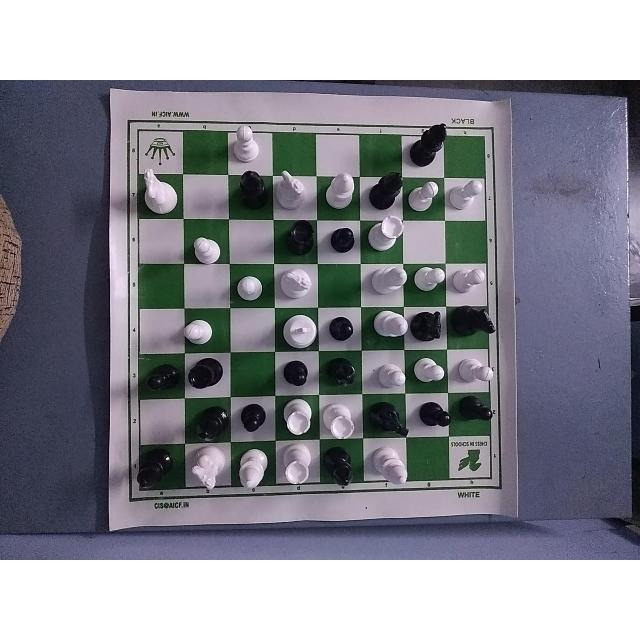black-bishop: (318, 442, 364, 497), (233, 167, 273, 219), (409, 119, 448, 169), (325, 357, 367, 397), (369, 167, 407, 208), (195, 405, 231, 448)
black-knight: (409, 304, 458, 348), (363, 399, 409, 443), (454, 304, 500, 346)
black-pawn: (231, 392, 274, 440), (321, 217, 362, 265), (138, 358, 185, 398), (323, 307, 362, 353), (406, 400, 454, 436), (277, 355, 319, 393), (457, 398, 499, 432)
black-rook: (268, 221, 320, 263), (137, 447, 177, 493), (187, 358, 230, 400)
white-bishop: (371, 446, 419, 492), (234, 444, 269, 492), (322, 171, 360, 215), (369, 262, 409, 298), (369, 308, 412, 340)
white-king: (275, 308, 322, 352)
white-knight: (136, 167, 182, 222), (186, 444, 229, 499), (273, 167, 313, 216), (277, 267, 320, 306)
white-pawn: (229, 120, 266, 170), (450, 353, 496, 391), (232, 267, 272, 309), (447, 175, 487, 217), (409, 351, 448, 391), (188, 231, 229, 267), (451, 266, 489, 298), (182, 314, 213, 350), (412, 264, 446, 296), (407, 181, 443, 211), (378, 365, 406, 395)
white-rook: (279, 396, 321, 443), (321, 401, 366, 443), (365, 215, 405, 259), (277, 446, 315, 490)
